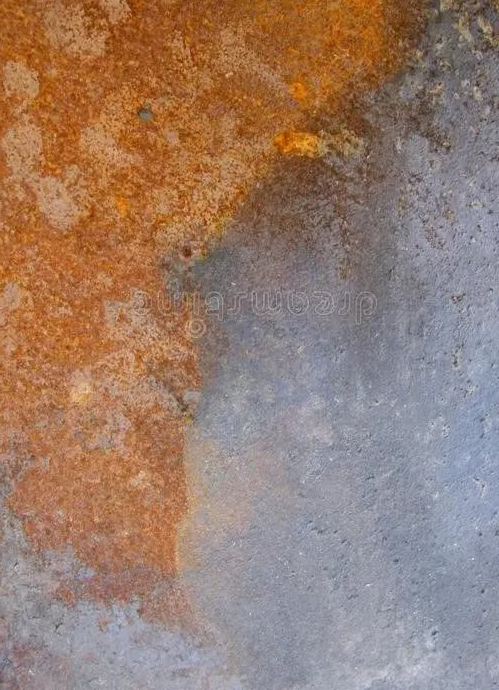Corrosion: (1, 1, 433, 633)
